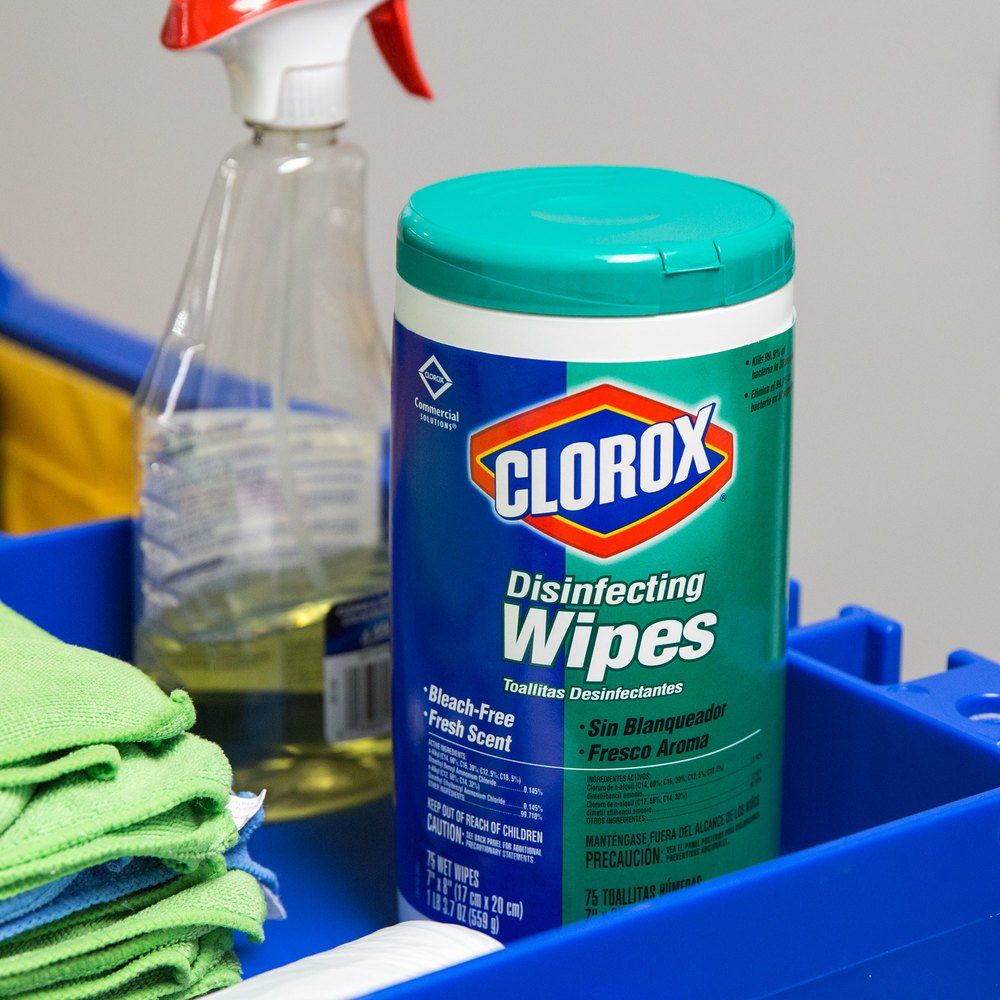Wipes: (379, 155, 812, 978)
